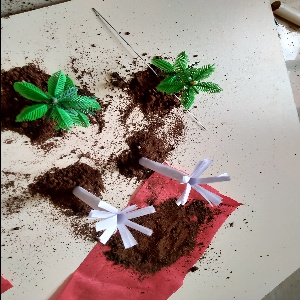plant: (12, 60, 101, 140), (143, 47, 221, 103)
weed: (67, 178, 163, 261), (137, 135, 237, 209)
